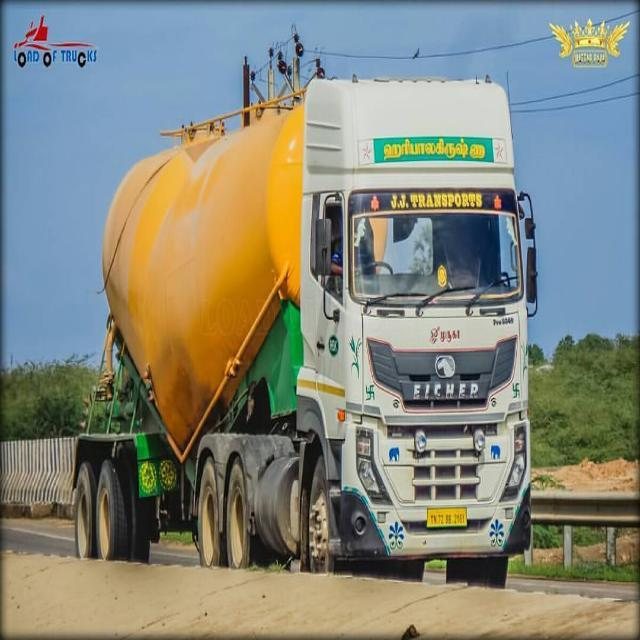Truck: (71, 74, 545, 586)
